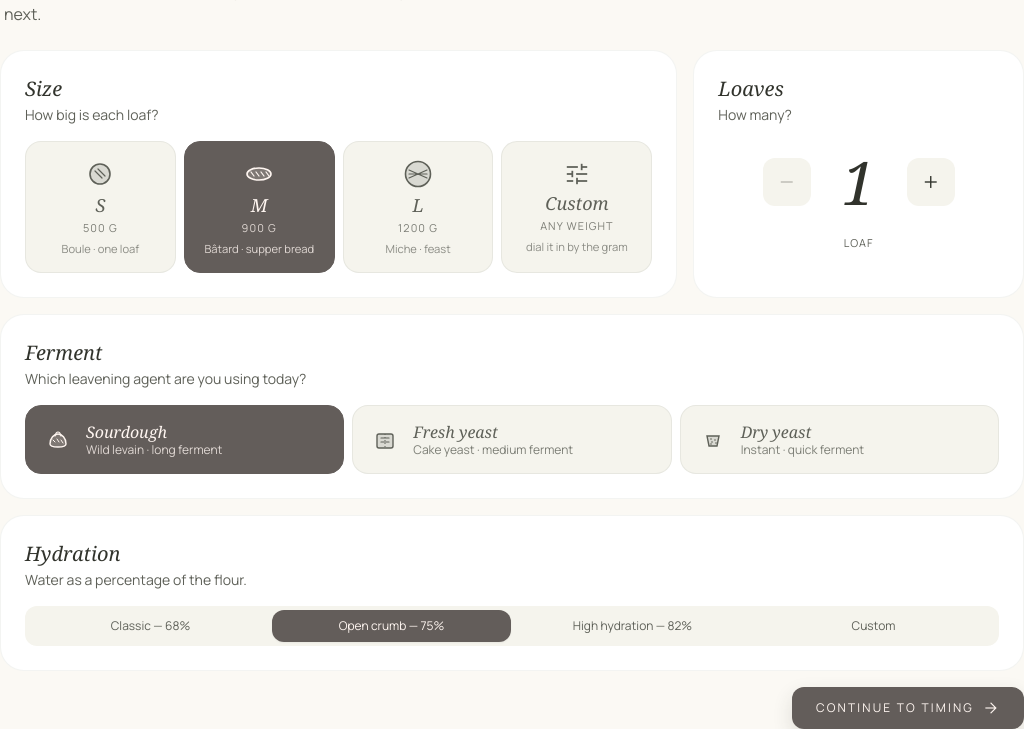
Test: Two-step planning flag: advancing to the timing step › clicking Continue reveals the timeline, ledger, and Back button
(page scrolled)
What coordinates should you click on to do the following:
click the button "Continue to timing"
I would click on:
 (908, 708)
Its box is [792,687,1023,728].
(page scrolled)
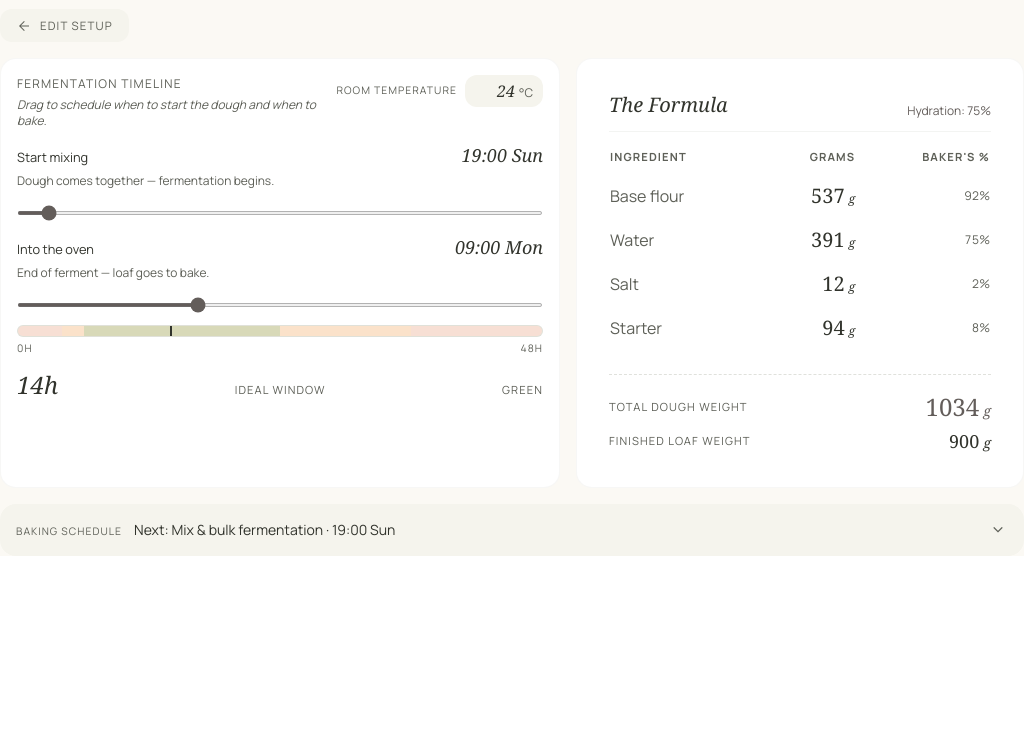
Check: the slider named "mix handle" is shown, box [17,211,543,215]
Check: the slider named "bake handle" is shown, box [17,303,543,307]
Check: the element named "ingredient ledger" is shown, box [576,58,1023,488]
